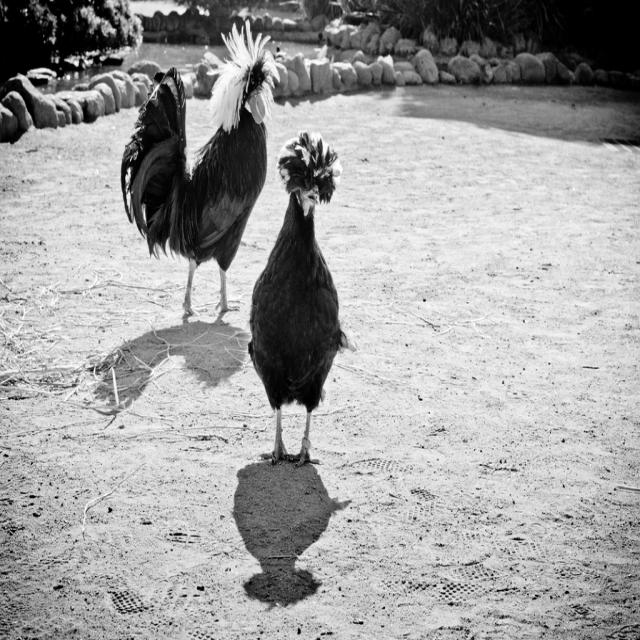Chicken: (110, 15, 288, 319), (242, 140, 347, 473)
